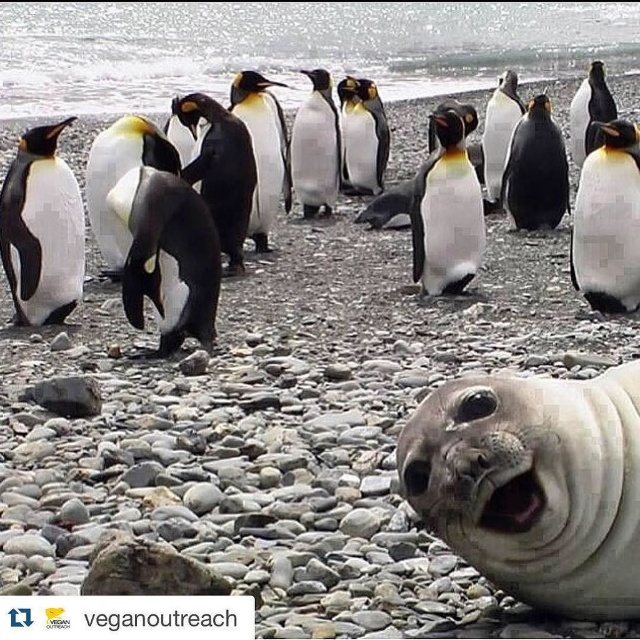Harbor seal: (394, 362, 639, 639)
